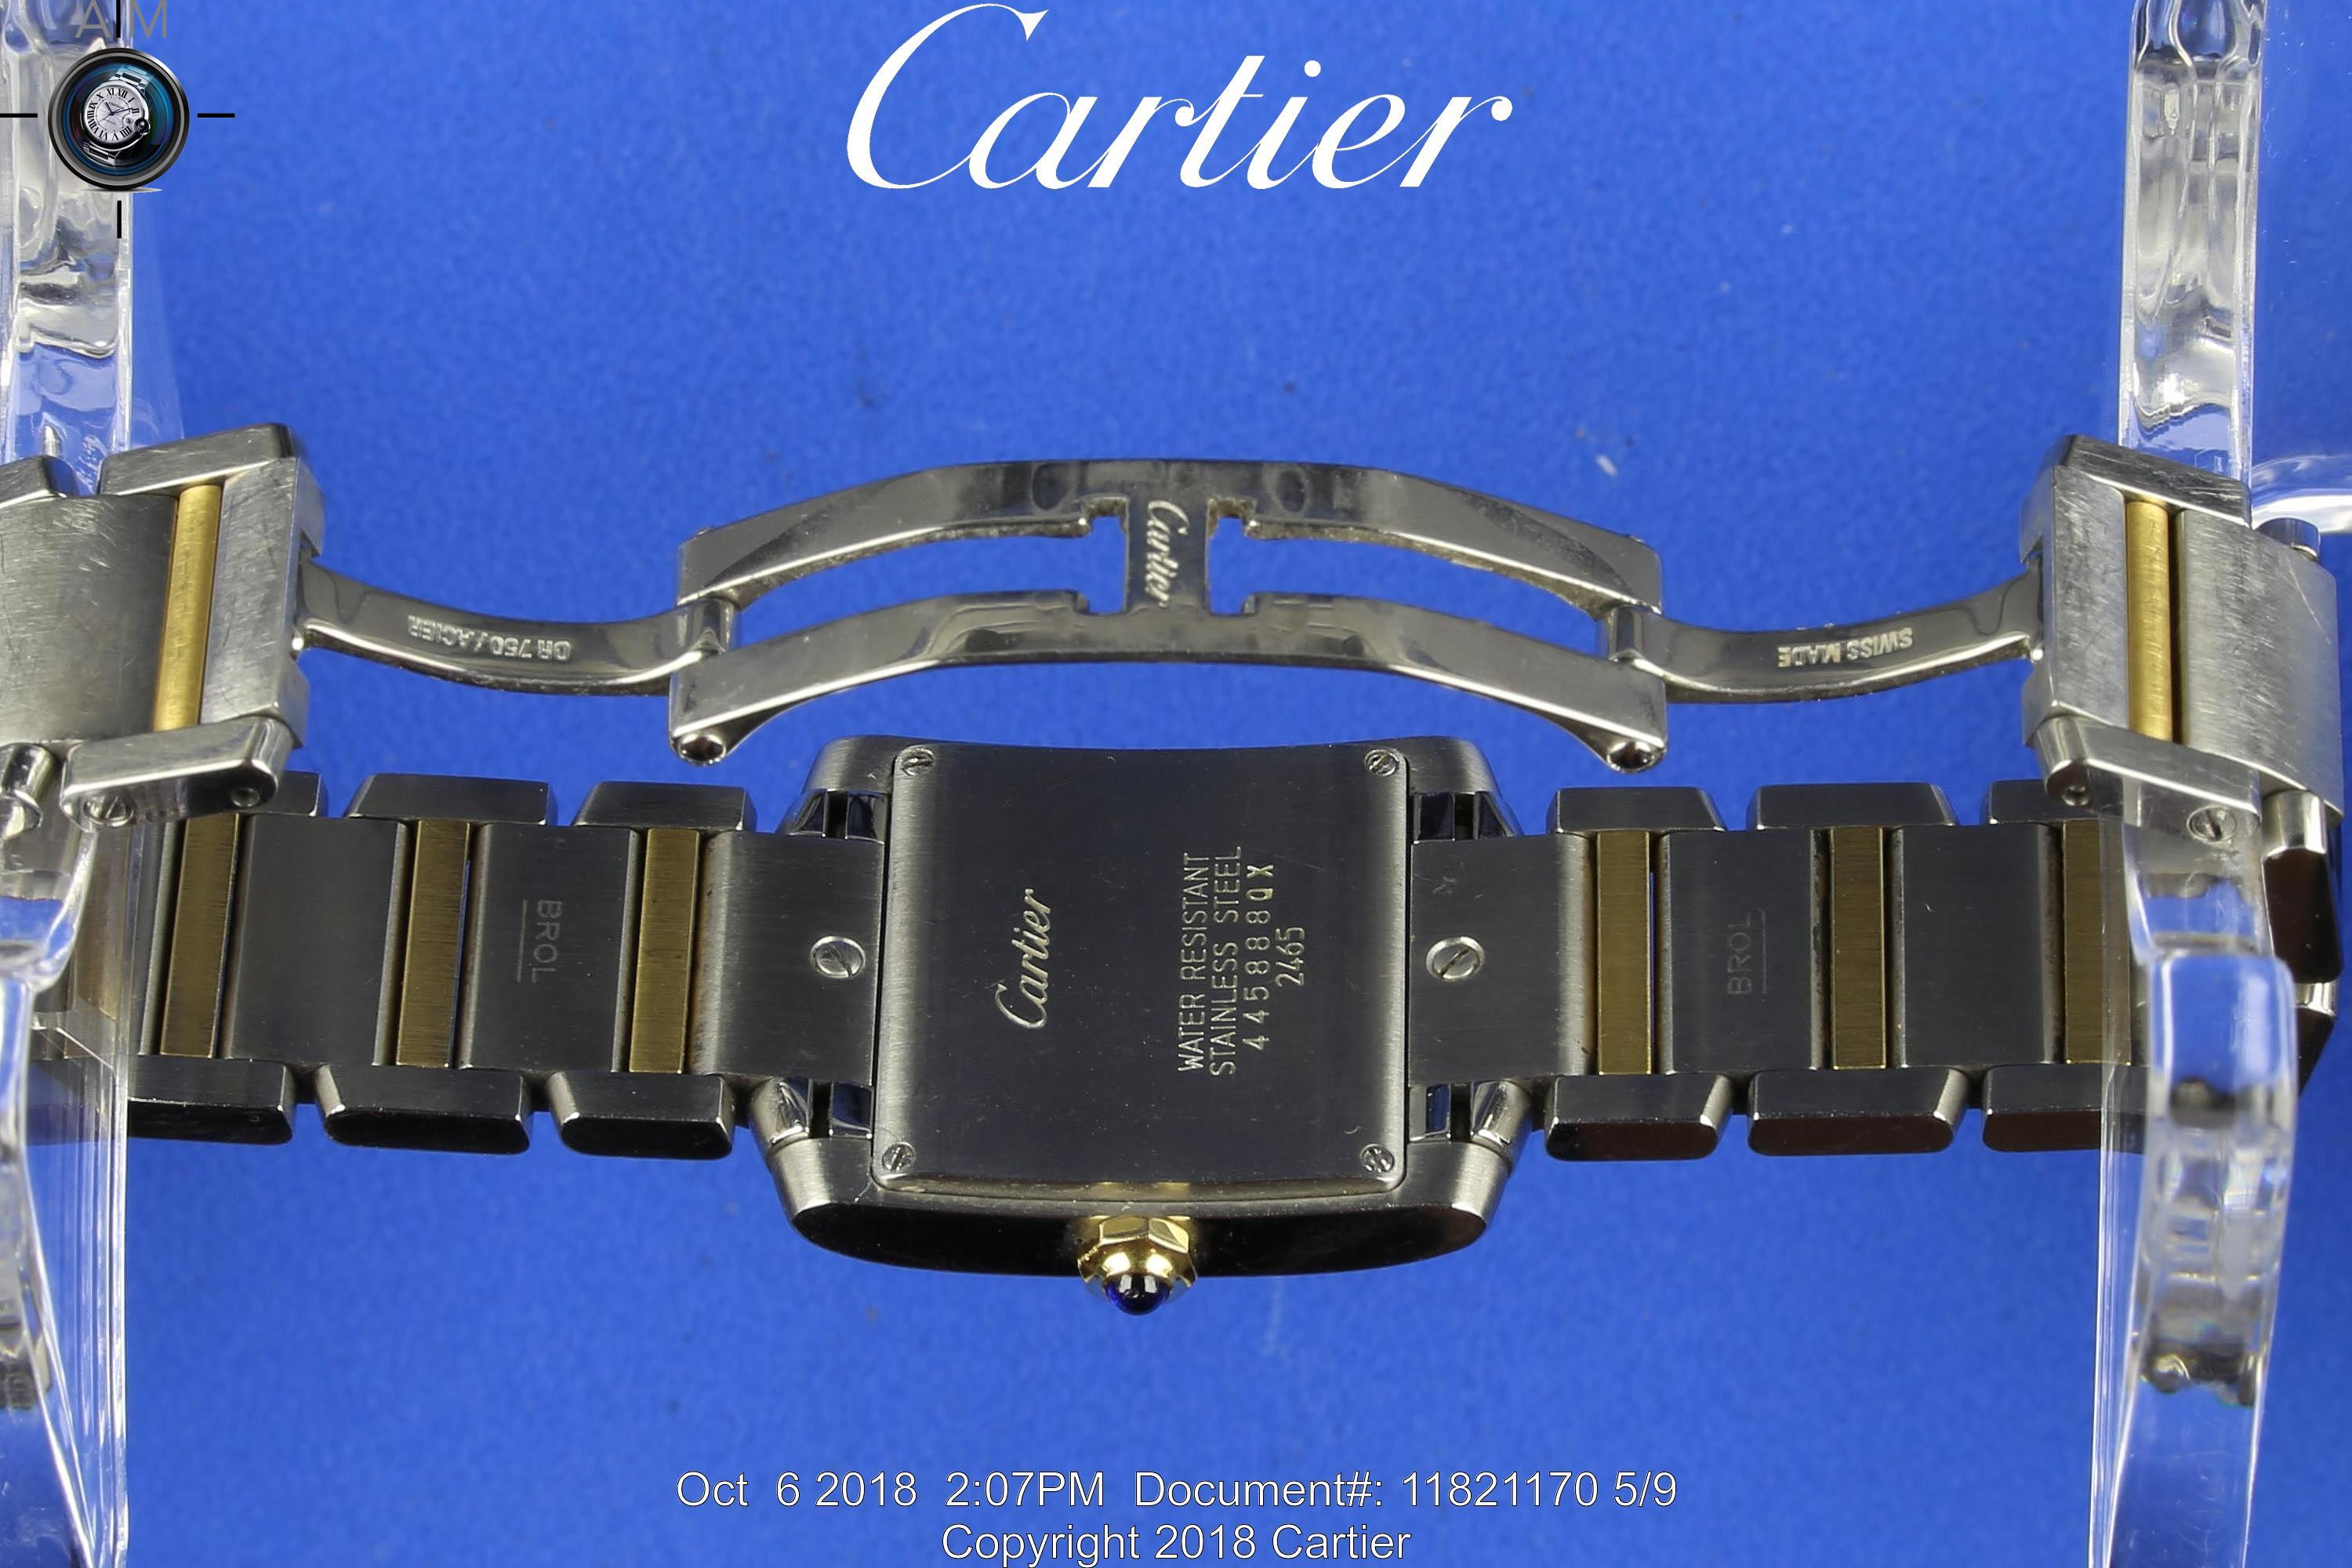watchback: (880, 756, 1410, 1186)
